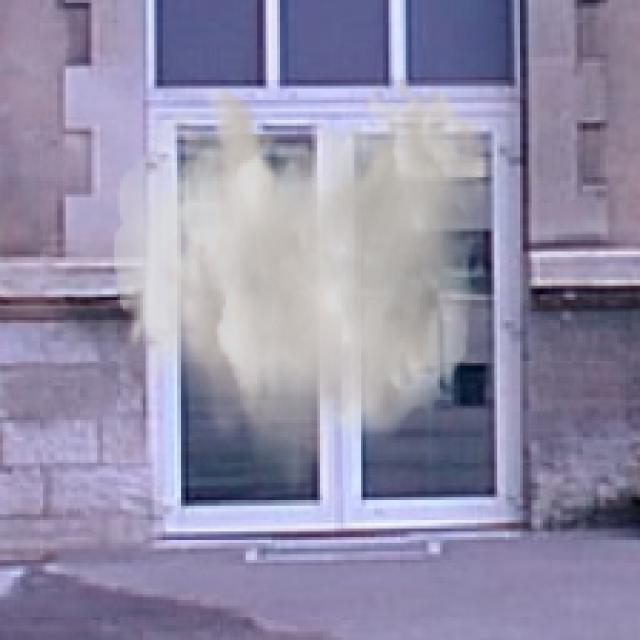smoke: (111, 74, 488, 497)
